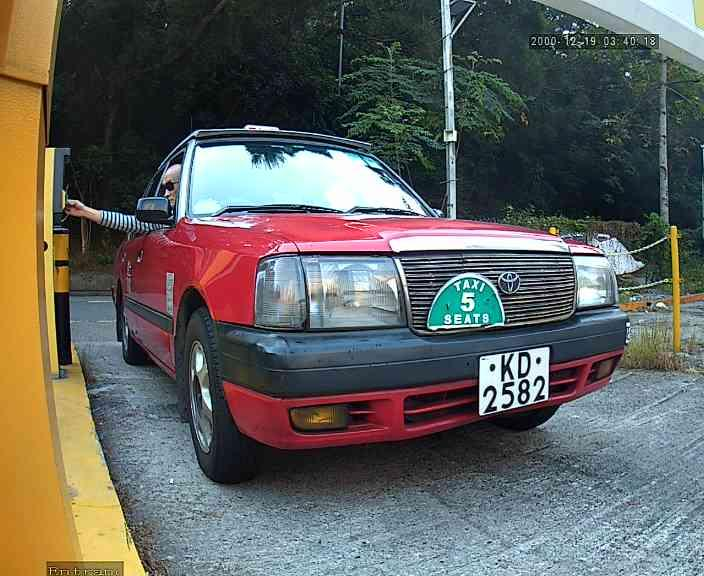Car: (79, 19, 635, 507)
License Plate: (472, 345, 557, 417)
